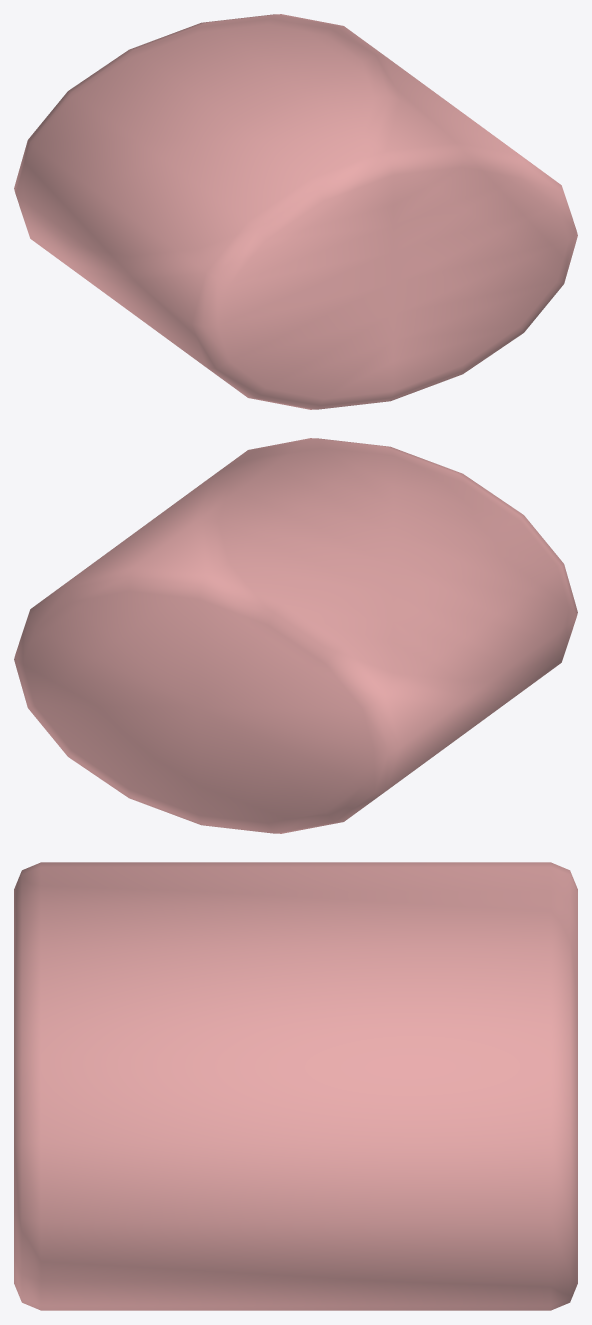
Rendered from MeshSoapBottleVolume_14_1.obj.
The picture shows the model from 3 angles, top to bottom: view 1: azimuth 30°, elevation 25°; view 2: azimuth 150°, elevation 25°; view 3: azimuth 270°, elevation 25°; orthographic projection. The views are drawn at different scales.
Parts seen in each view (by area): view 1: SoapBottleVolume_14; view 2: SoapBottleVolume_14; view 3: SoapBottleVolume_14.
Boxes of the visible parts, x1,y1,x2,y2 form: SoapBottleVolume_14: (14, 14, 577, 409); SoapBottleVolume_14: (14, 438, 577, 833); SoapBottleVolume_14: (14, 862, 577, 1310).
Bounding box in the file's own units: 0.1249 × 0.0776 × 0.1095.
